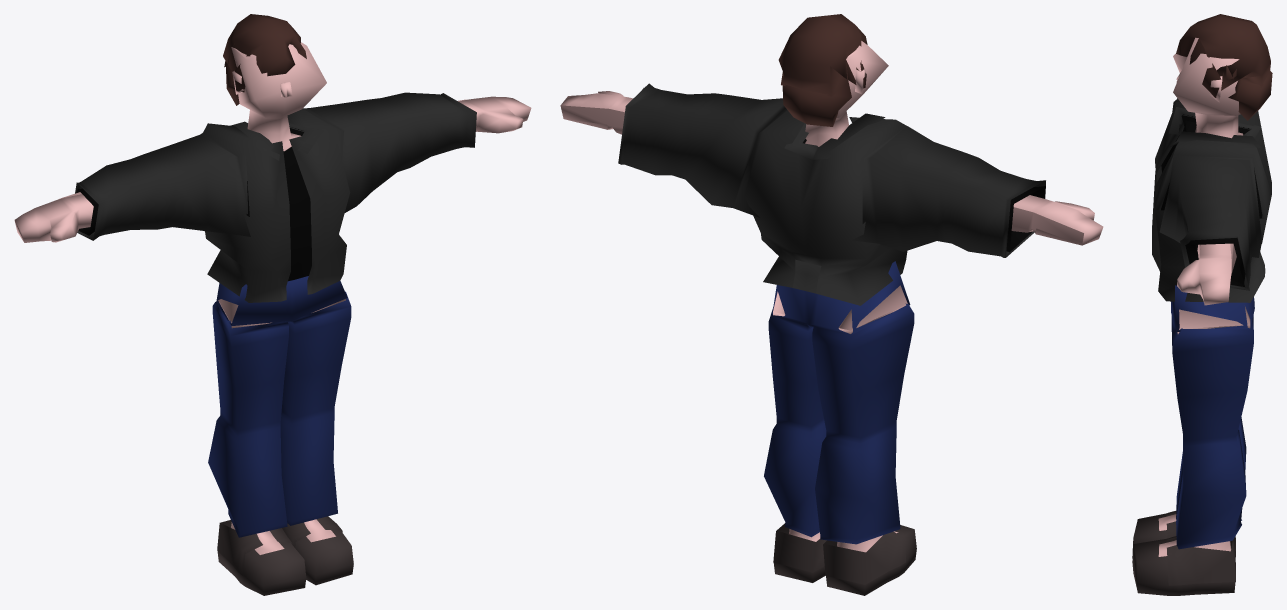
File: basic1.glb
3 renders of one model, left to right at view 1: azimuth 30°, elevation 25°; view 2: azimuth 150°, elevation 25°; view 3: azimuth 270°, elevation 25°, orthographic. The views are drawn at different scales.
Visible parts, largest first — view 1: simple.jacket, simple.pants, simple.body, simple.shoes, simple.hair.001, simple.shirt.001; view 2: simple.jacket, simple.pants, simple.body, simple.hair.001, simple.shoes, simple.shirt.001; view 3: simple.pants, simple.jacket, simple.body, simple.shoes, simple.hair.001, simple.shirt.001.
Boxes of the visible parts, <box> form: simple.jacket: <box>75,92,476,302</box>; simple.pants: <box>208,276,351,537</box>; simple.body: <box>14,42,531,554</box>; simple.shoes: <box>217,516,353,595</box>; simple.hair.001: <box>223,14,306,105</box>; simple.shirt.001: <box>77,128,311,281</box>; simple.jacket: <box>618,83,1045,305</box>; simple.pants: <box>764,261,914,544</box>; simple.body: <box>560,41,1103,552</box>; simple.hair.001: <box>778,14,867,126</box>; simple.shoes: <box>773,523,916,595</box>; simple.shirt.001: <box>642,88,1045,252</box>; simple.pants: <box>1171,285,1254,549</box>; simple.jacket: <box>1152,98,1271,302</box>; simple.body: <box>1158,37,1250,556</box>; simple.shoes: <box>1132,511,1235,595</box>; simple.hair.001: <box>1176,14,1272,120</box>; simple.shirt.001: <box>1161,115,1262,286</box>.
Bounding box in the file's own units: 1.71 × 1.72 × 0.3939.
